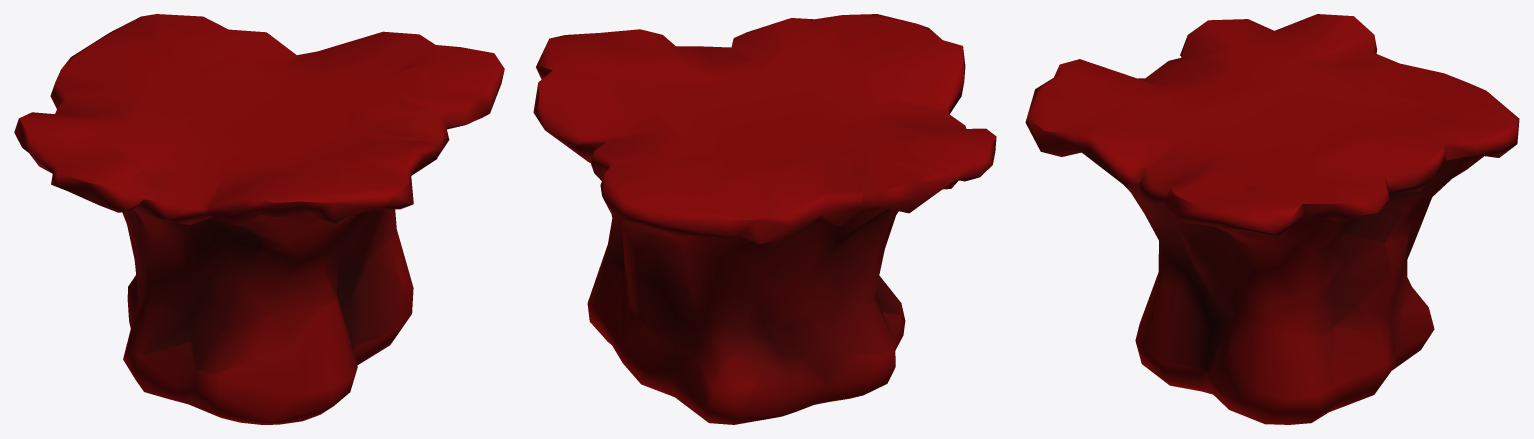
File: env_siderock_medium01_lod2.fbx
3 views of the same model, side by side, from view 1: azimuth 30°, elevation 25°; view 2: azimuth 150°, elevation 25°; view 3: azimuth 270°, elevation 25° (orthographic). The views are drawn at different scales.
Visible parts, largest first — view 1: env_siderock_medium01_lod2; view 2: env_siderock_medium01_lod2; view 3: env_siderock_medium01_lod2.
Boxes of the visible parts, <box> form: env_siderock_medium01_lod2: <box>14,14,504,424</box>; env_siderock_medium01_lod2: <box>533,14,996,424</box>; env_siderock_medium01_lod2: <box>1025,14,1519,424</box>.
Bounding box in the file's own units: 128 × 77.04 × 126.
